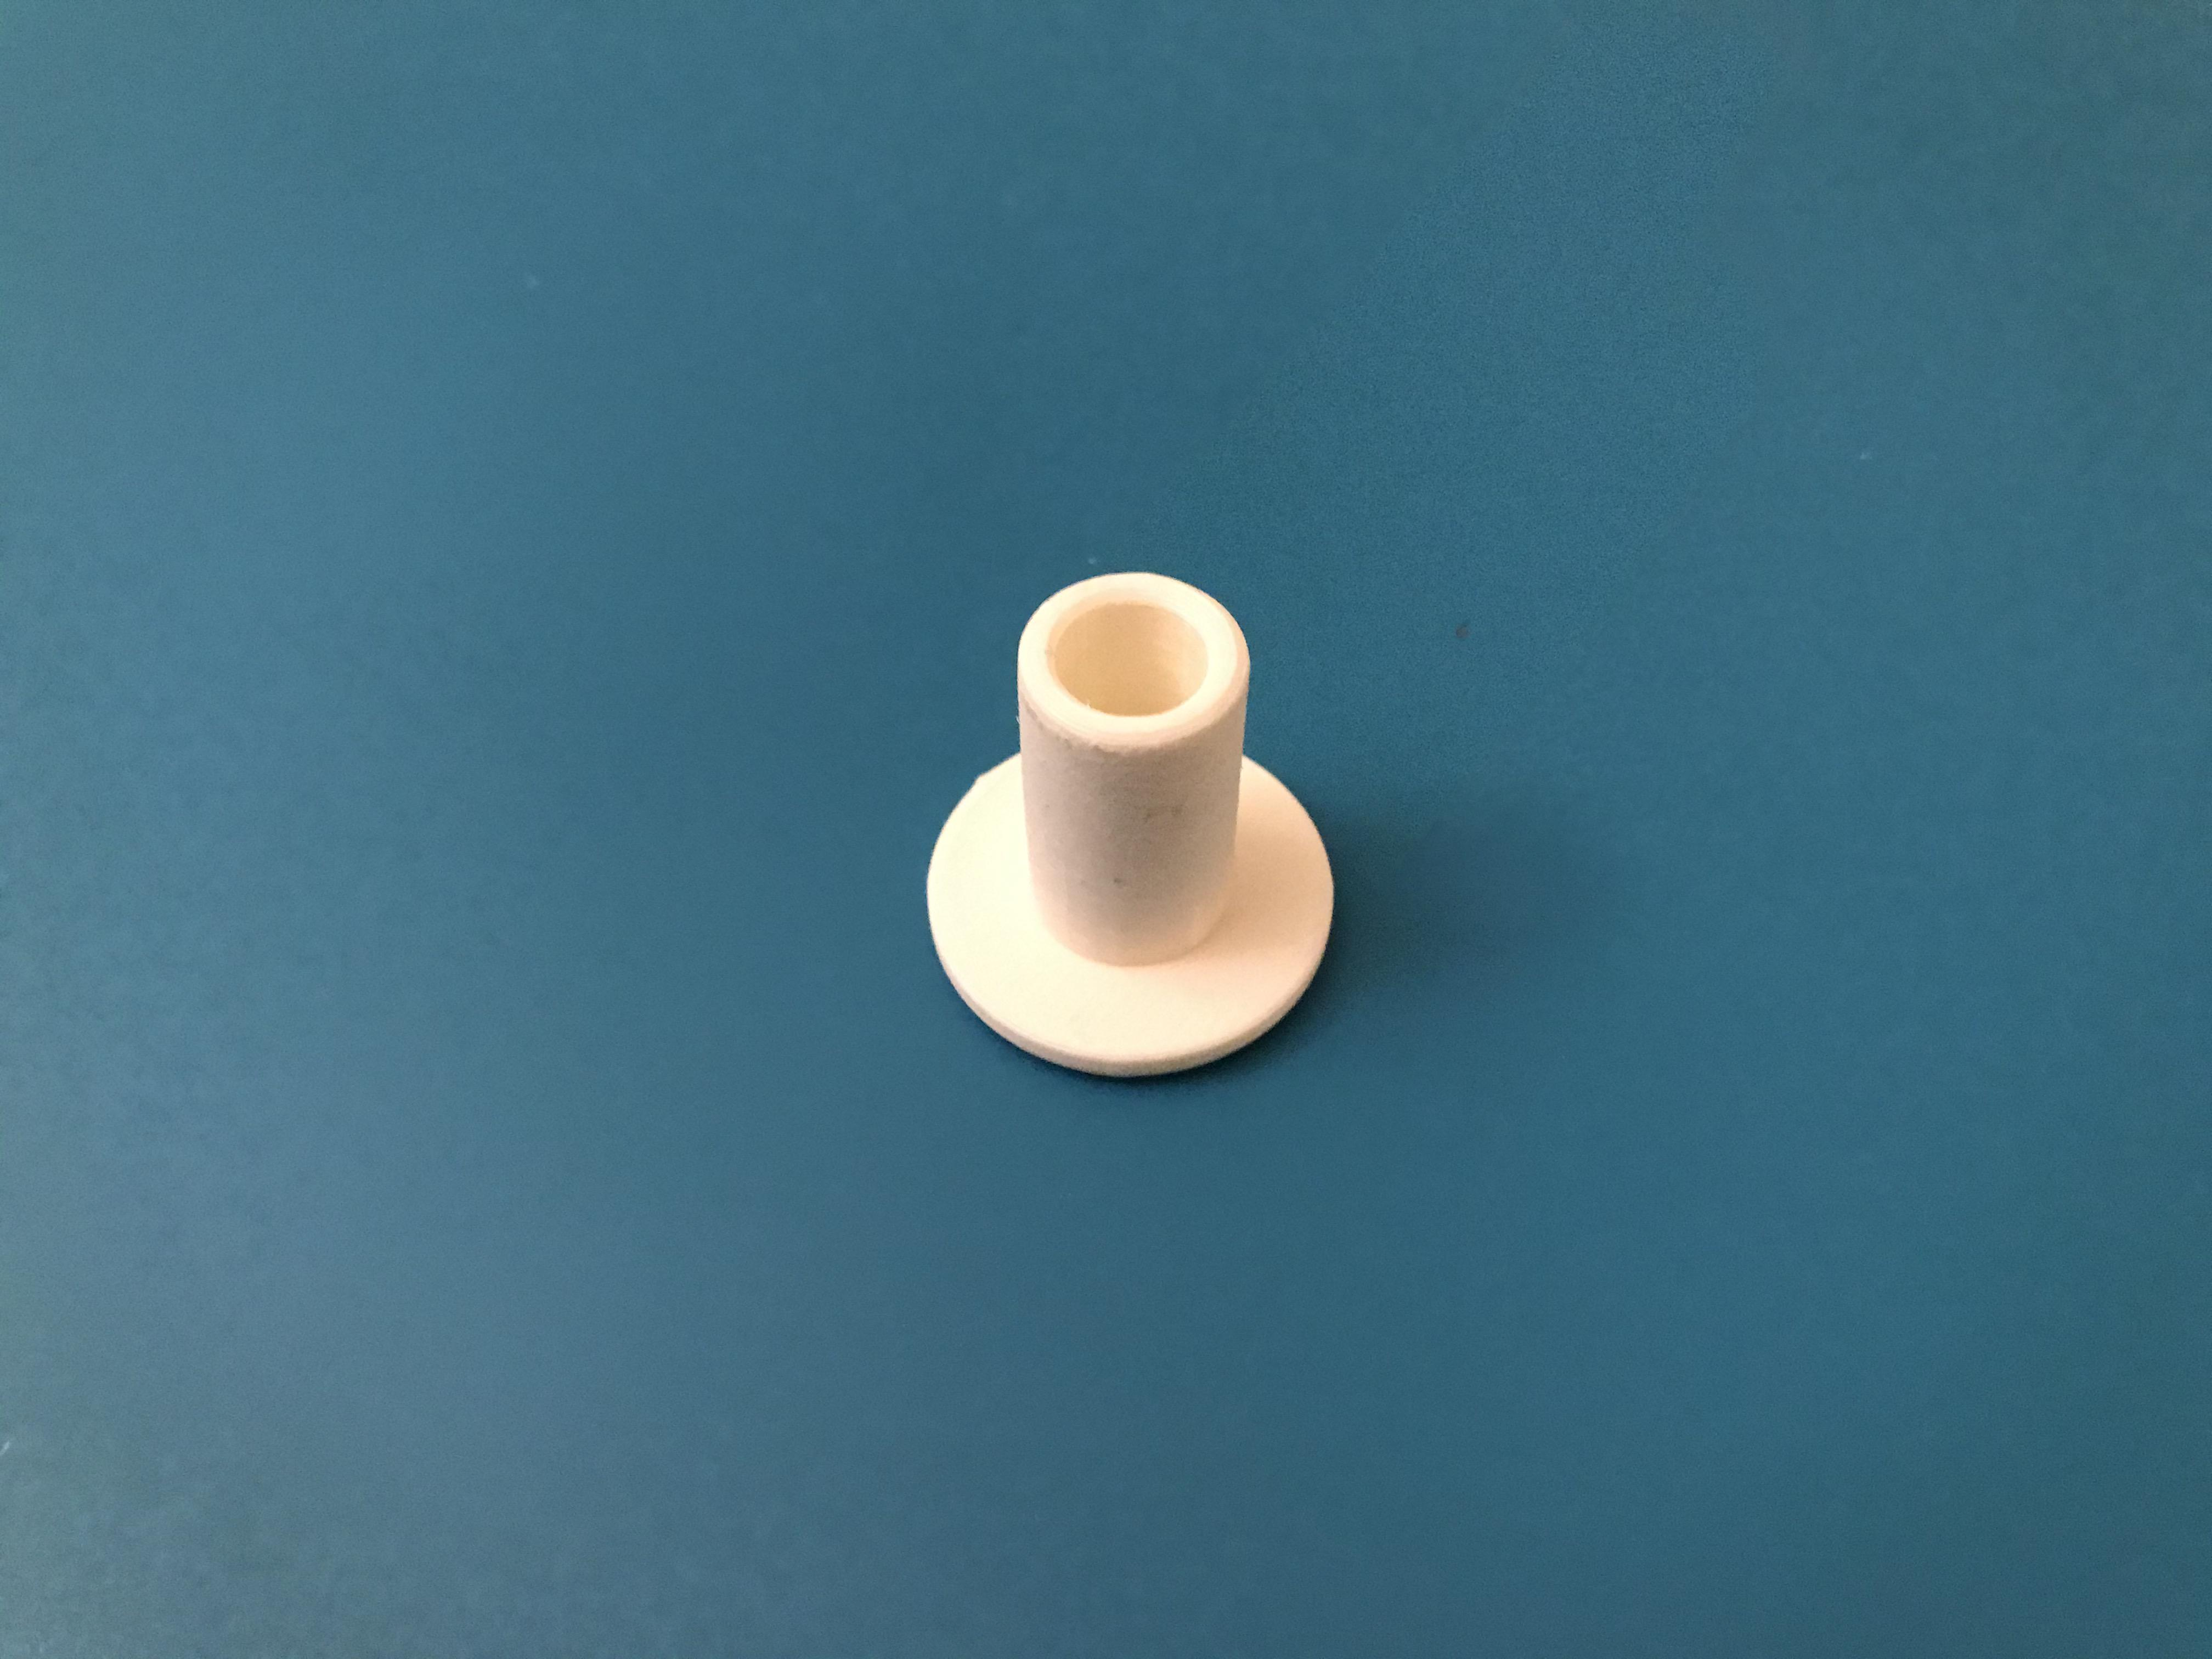White Cone: (914, 561, 1345, 1084)
